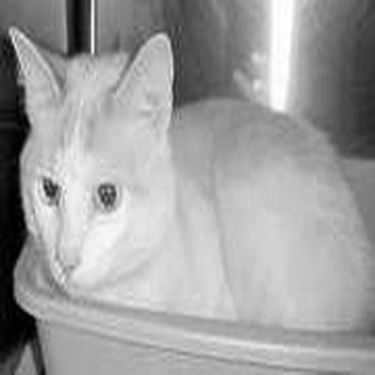cat: (3, 22, 367, 347)
